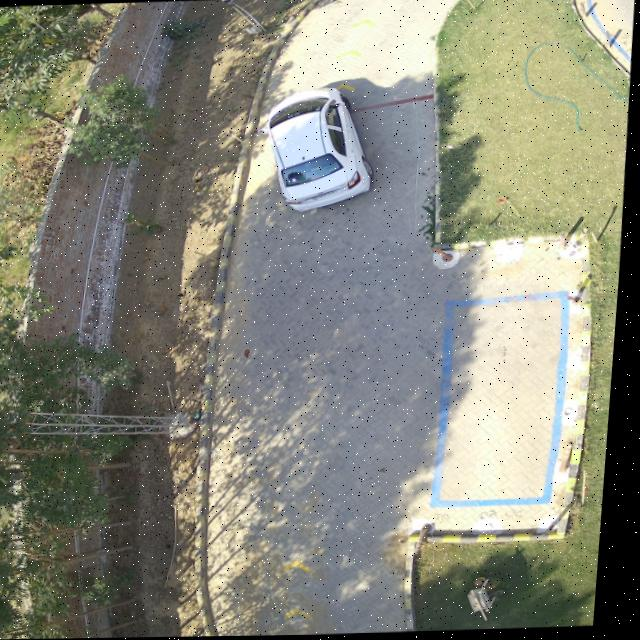car: (267, 87, 378, 211)
